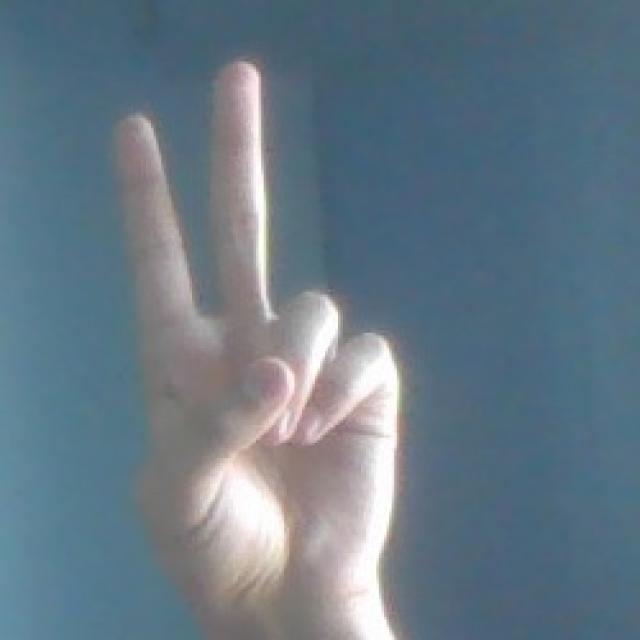Numeric-2: (110, 56, 393, 618)
